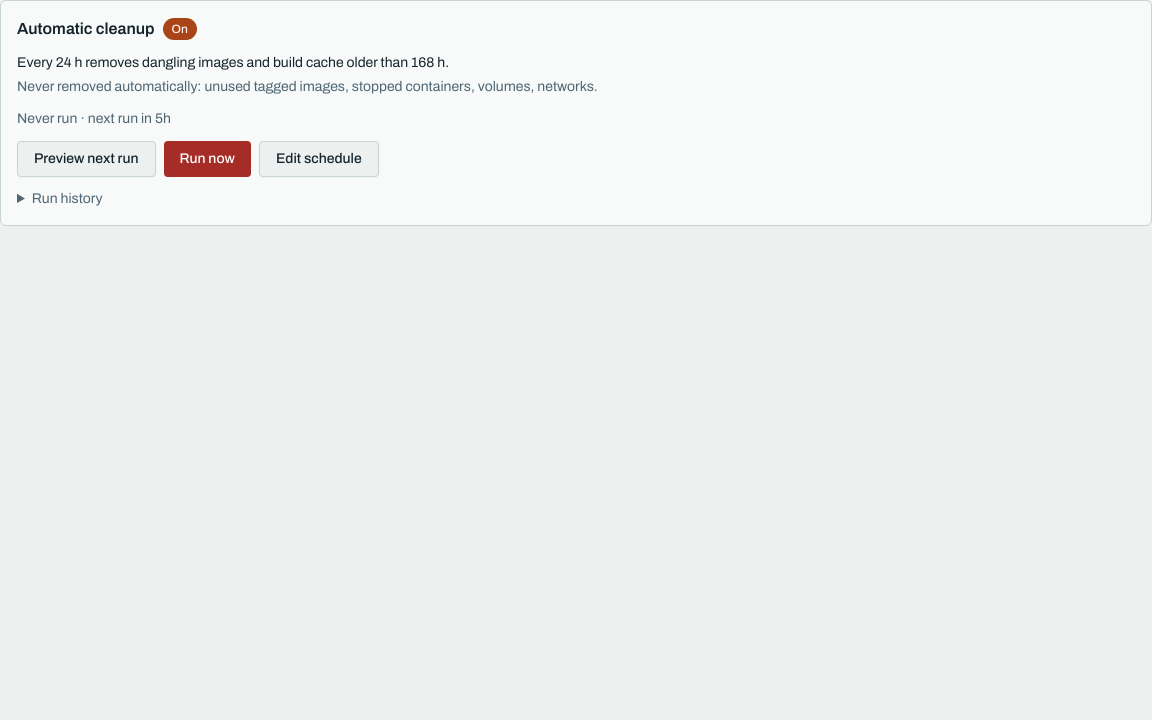
it: AutoCleanupPanel: Preview next run › renders the image id, prefix stripped and truncated, when the image has none
Click the button "Preview next run" at (86,159), box [17, 141, 156, 177]
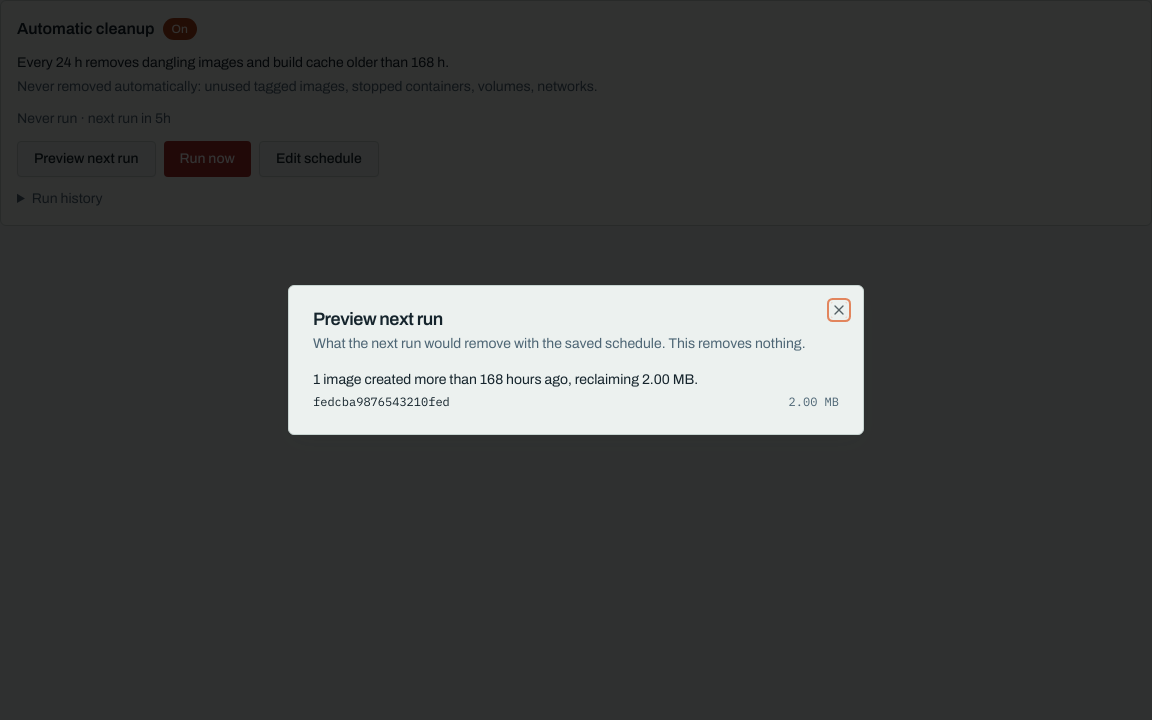
Now the text "fedcba9876543210fed" is shown, box [313, 394, 450, 410]
